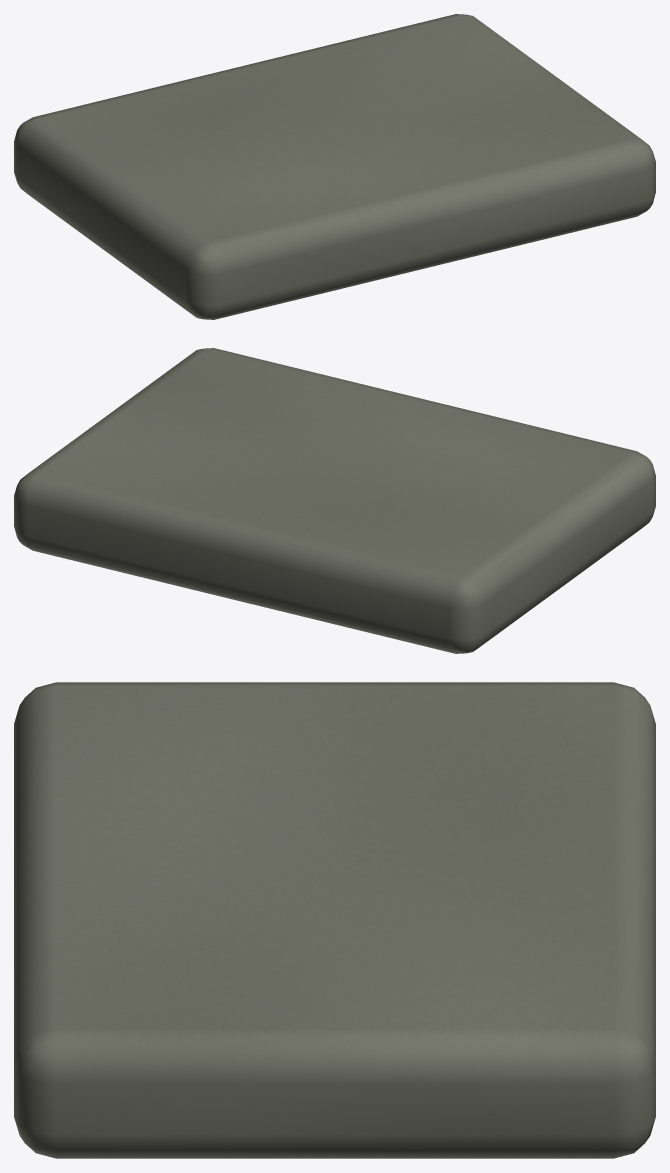
File: stone_path.glb
3 renders of one model, top to bottom at view 1: azimuth 30°, elevation 25°; view 2: azimuth 150°, elevation 25°; view 3: azimuth 270°, elevation 25°, orthographic. The views are drawn at different scales.
Visible parts, largest first — view 1: stone_path; view 2: stone_path; view 3: stone_path.
Part boxes in pixels (bbox=[...]): stone_path: bbox=[14, 14, 655, 319]; stone_path: bbox=[14, 348, 655, 653]; stone_path: bbox=[14, 682, 655, 1158].
Size of the model in its own units: 0.64 by 0.1 by 0.46.
1 material, 1 textured.
